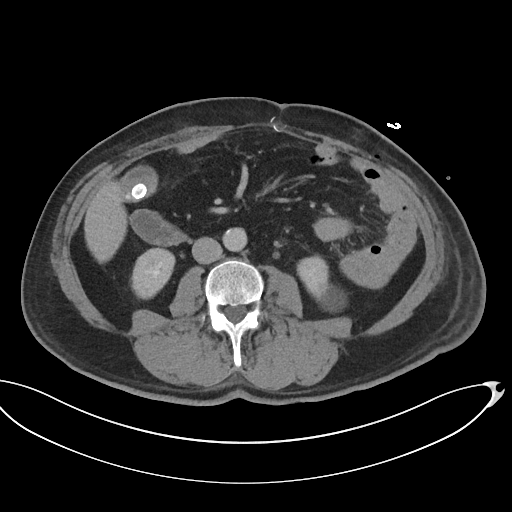Lesion: (311, 280, 353, 317)
